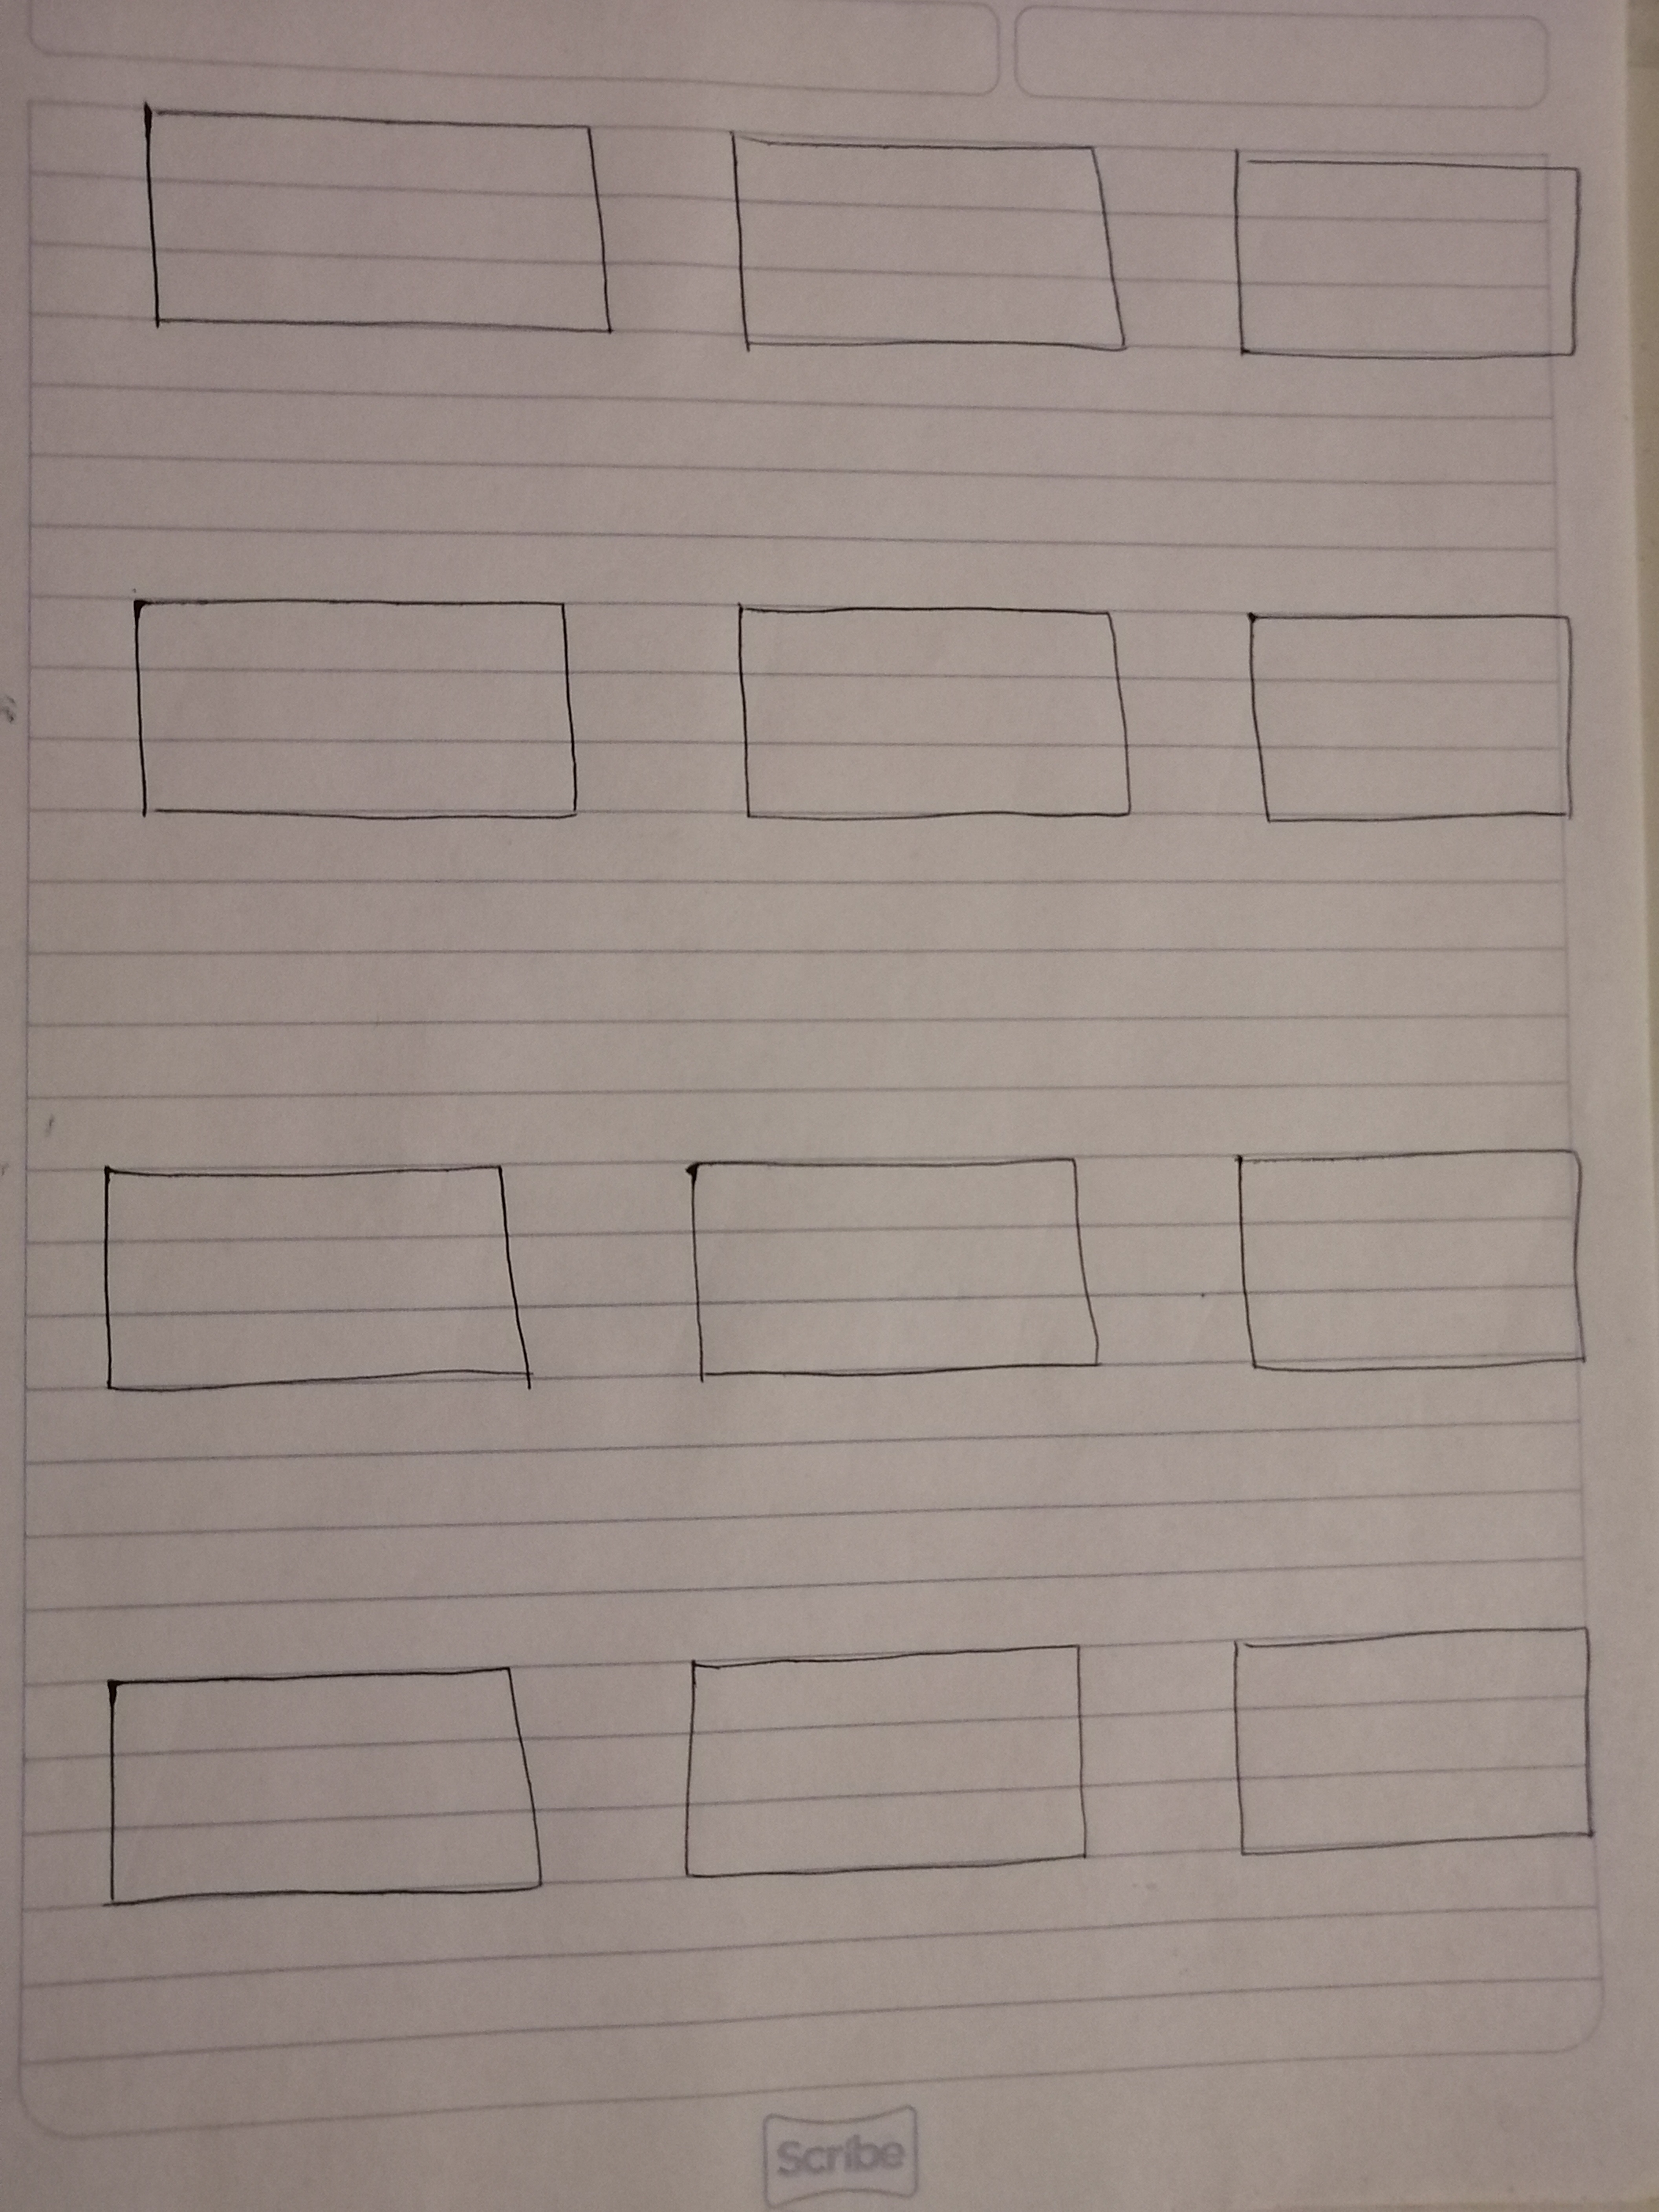process: (92, 73, 660, 378), (96, 563, 631, 885), (645, 1120, 1175, 1435), (71, 1116, 579, 1442), (685, 80, 1164, 409), (68, 1644, 586, 1926), (1199, 1116, 1628, 1449), (681, 573, 1175, 855), (1202, 96, 1607, 427), (1213, 570, 1628, 888), (671, 1620, 1114, 1912), (1213, 1595, 1621, 1912)
